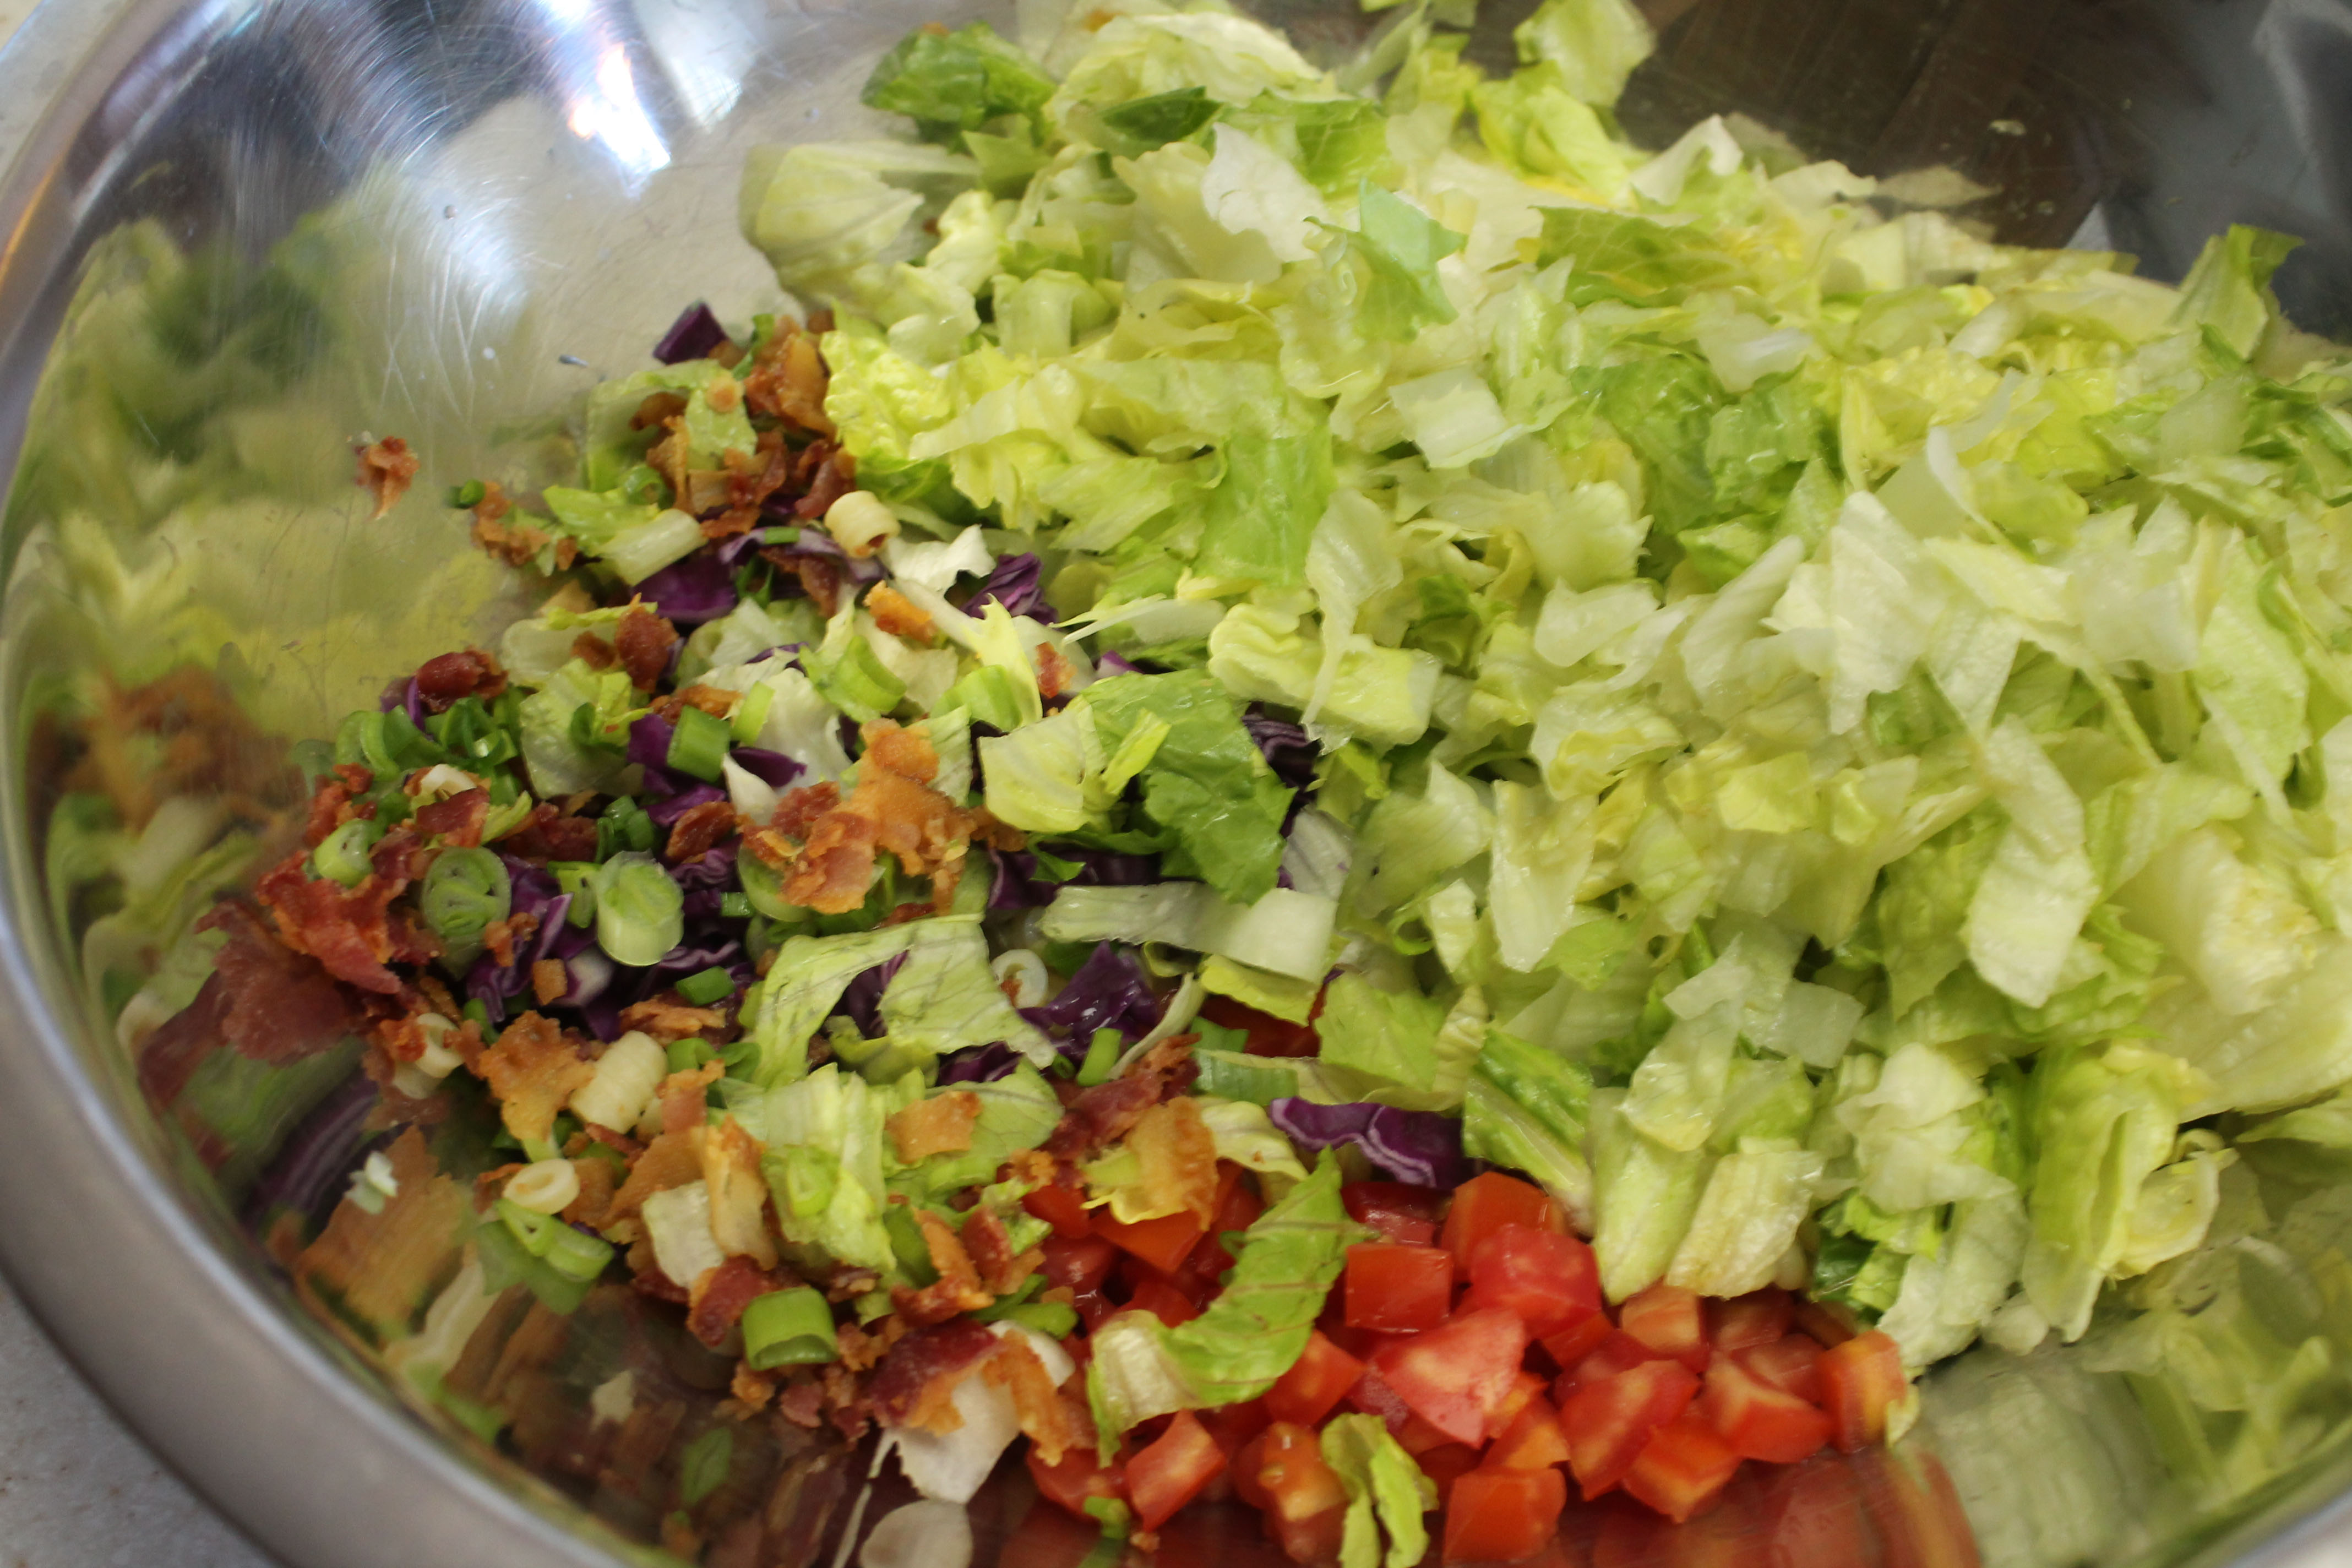chopped lettuce: (1006, 117, 2333, 1188)
